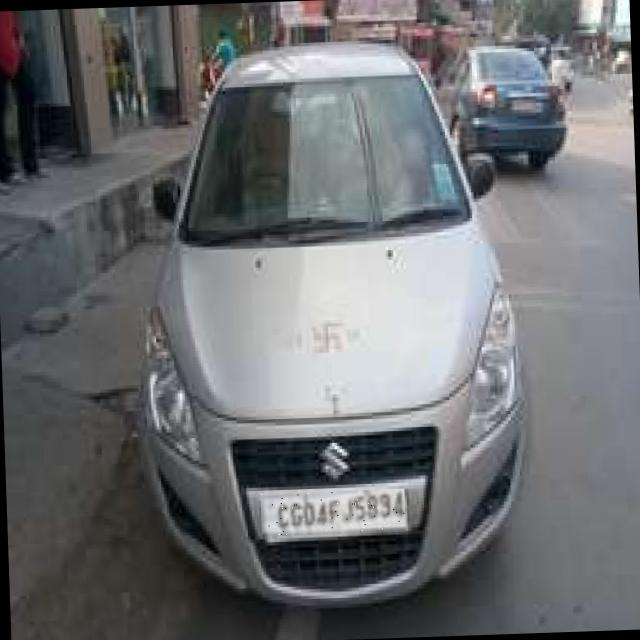Plate: (261, 490, 406, 537)
